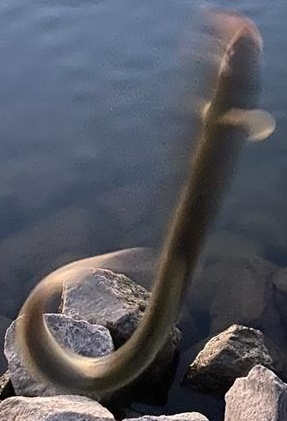Anguilla anguilla: (20, 20, 267, 401)
